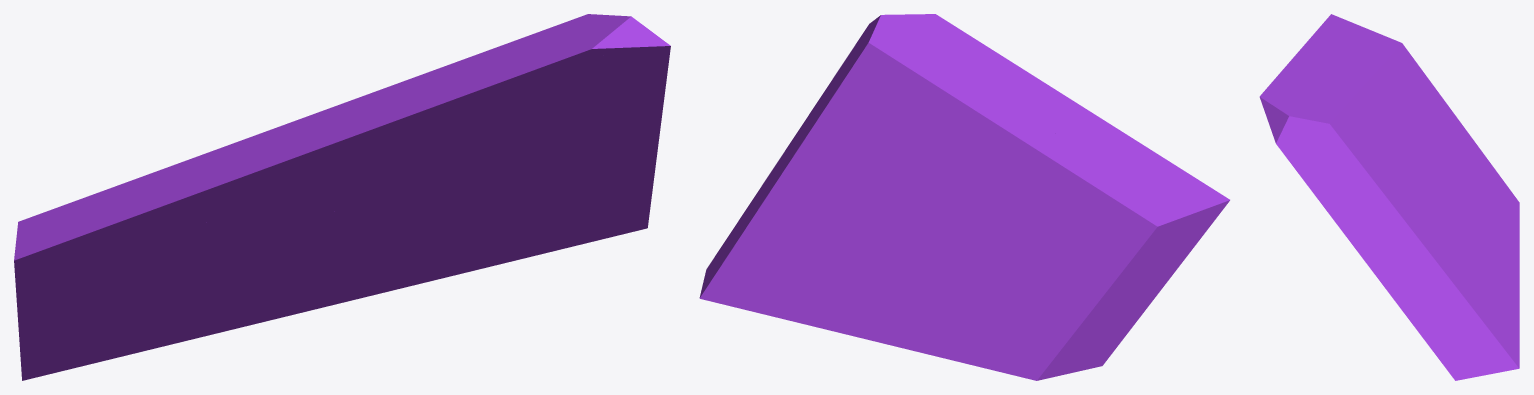
File: Window_127_1_chunks.fbx
The picture shows the model from 3 angles, left to right: view 1: azimuth 30°, elevation 25°; view 2: azimuth 150°, elevation 25°; view 3: azimuth 270°, elevation 25°; orthographic projection. The views are drawn at different scales.
Parts seen in each view (by area): view 1: Window_127_1_1, Window_127_1_6, Window_127_1_5, Window_127_1_0, Window_127_1_4, Window_127_1_7, Window_127_1_3, Window_127_1_8, Window_127_1_9; view 2: Window_127_1_1, Window_127_1_5, Window_127_1_2, Window_127_1_4, Window_127_1_3, Window_127_1_6, Window_127_1_7, Window_127_1_9; view 3: Window_127_1_1, Window_127_1_5, Window_127_1_2, Window_127_1_6, Window_127_1_3, Window_127_1_7, Window_127_1_9, Window_127_1_4, Window_127_1_8.
Part boxes in pixels (x1=…): Window_127_1_1: x1=464, y1=14, x2=670, y2=272; Window_127_1_6: x1=88, y1=60, x2=560, y2=233; Window_127_1_5: x1=14, y1=152, x2=283, y2=341; Window_127_1_0: x1=355, y1=143, x2=505, y2=299; Window_127_1_4: x1=19, y1=271, x2=294, y2=380; Window_127_1_7: x1=143, y1=72, x2=466, y2=225; Window_127_1_3: x1=226, y1=209, x2=357, y2=314; Window_127_1_8: x1=461, y1=28, x2=670, y2=160; Window_127_1_9: x1=426, y1=15, x2=646, y2=81; Window_127_1_1: x1=699, y1=28, x2=947, y2=332; Window_127_1_5: x1=1010, y1=164, x2=1229, y2=311; Window_127_1_2: x1=851, y1=211, x2=1061, y2=353; Window_127_1_4: x1=926, y1=281, x2=1144, y2=380; Window_127_1_3: x1=841, y1=168, x2=1013, y2=335; Window_127_1_6: x1=951, y1=24, x2=1191, y2=175; Window_127_1_7: x1=915, y1=90, x2=1133, y2=172; Window_127_1_9: x1=871, y1=14, x2=962, y2=106; Window_127_1_1: x1=1279, y1=118, x2=1519, y2=380; Window_127_1_5: x1=1322, y1=14, x2=1458, y2=132; Window_127_1_2: x1=1415, y1=127, x2=1519, y2=293; Window_127_1_6: x1=1263, y1=25, x2=1346, y2=95; Window_127_1_3: x1=1387, y1=101, x2=1519, y2=298; Window_127_1_7: x1=1338, y1=45, x2=1399, y2=144; Window_127_1_9: x1=1259, y1=92, x2=1362, y2=132; Window_127_1_4: x1=1452, y1=120, x2=1519, y2=256; Window_127_1_8: x1=1266, y1=114, x2=1296, y2=147.
Size of the model in its own units: 852 by 382 by 410.
